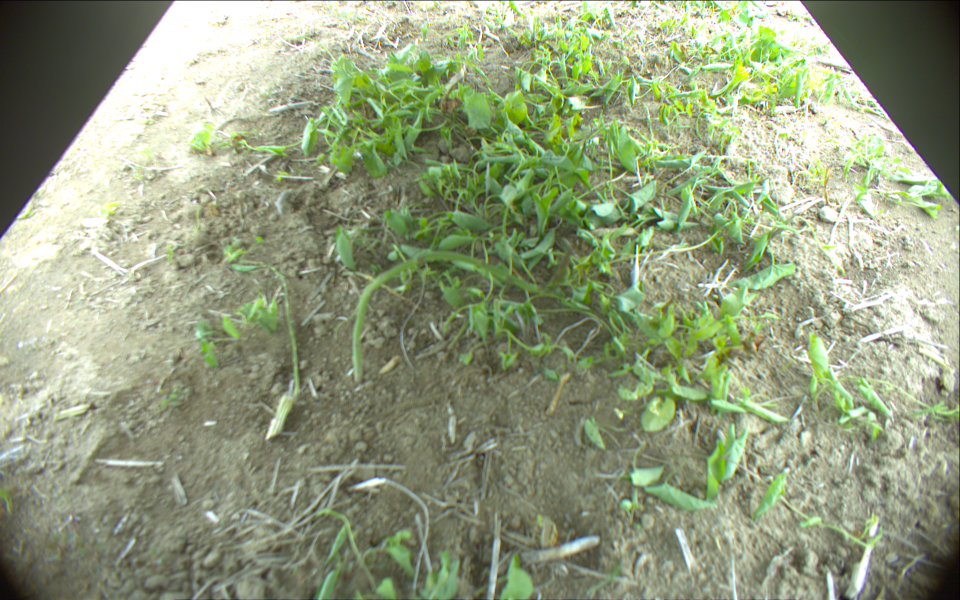aspa: (352, 248, 564, 384), (240, 257, 303, 397)
